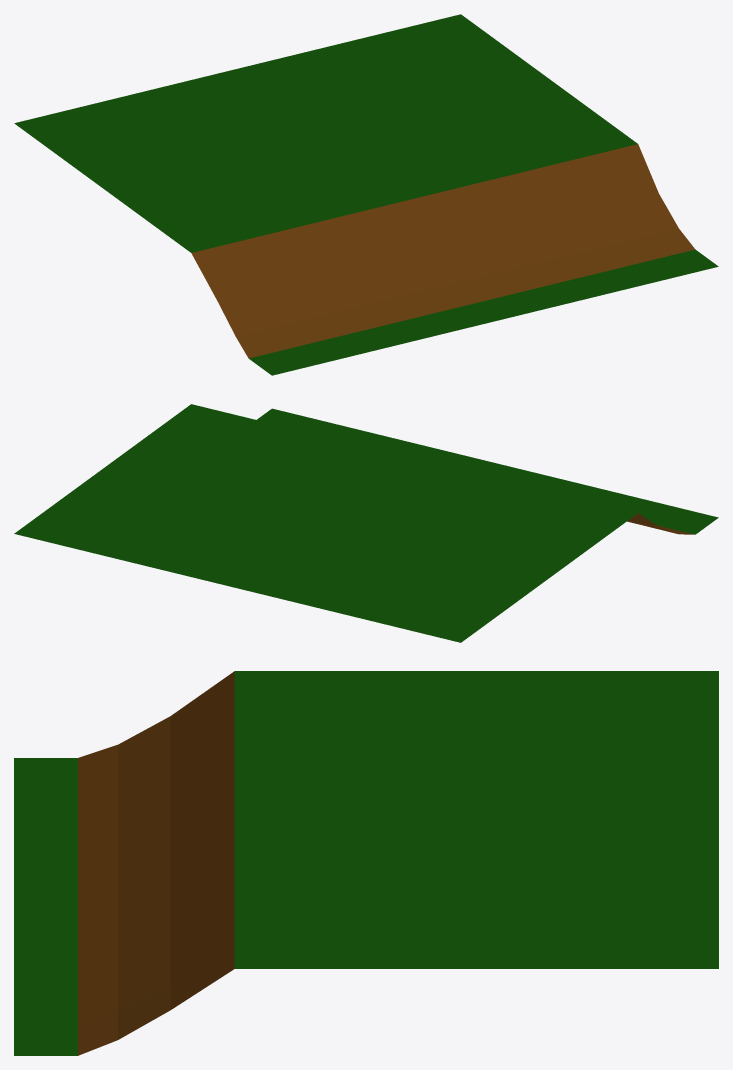
The model's file is Barranco.fbx.
3 views of the same model, one above another, from view 1: azimuth 30°, elevation 25°; view 2: azimuth 150°, elevation 25°; view 3: azimuth 270°, elevation 25° (orthographic). The views are drawn at different scales.
Visible parts, largest first — view 1: Terrain2; view 2: Terrain2; view 3: Terrain2.
Boxes of the visible parts, bbox=[...] form: Terrain2: bbox=[14, 14, 718, 375]; Terrain2: bbox=[14, 404, 718, 642]; Terrain2: bbox=[14, 671, 718, 1055].
Bounding box in the file's own units: 2000 × 272 × 2000.
